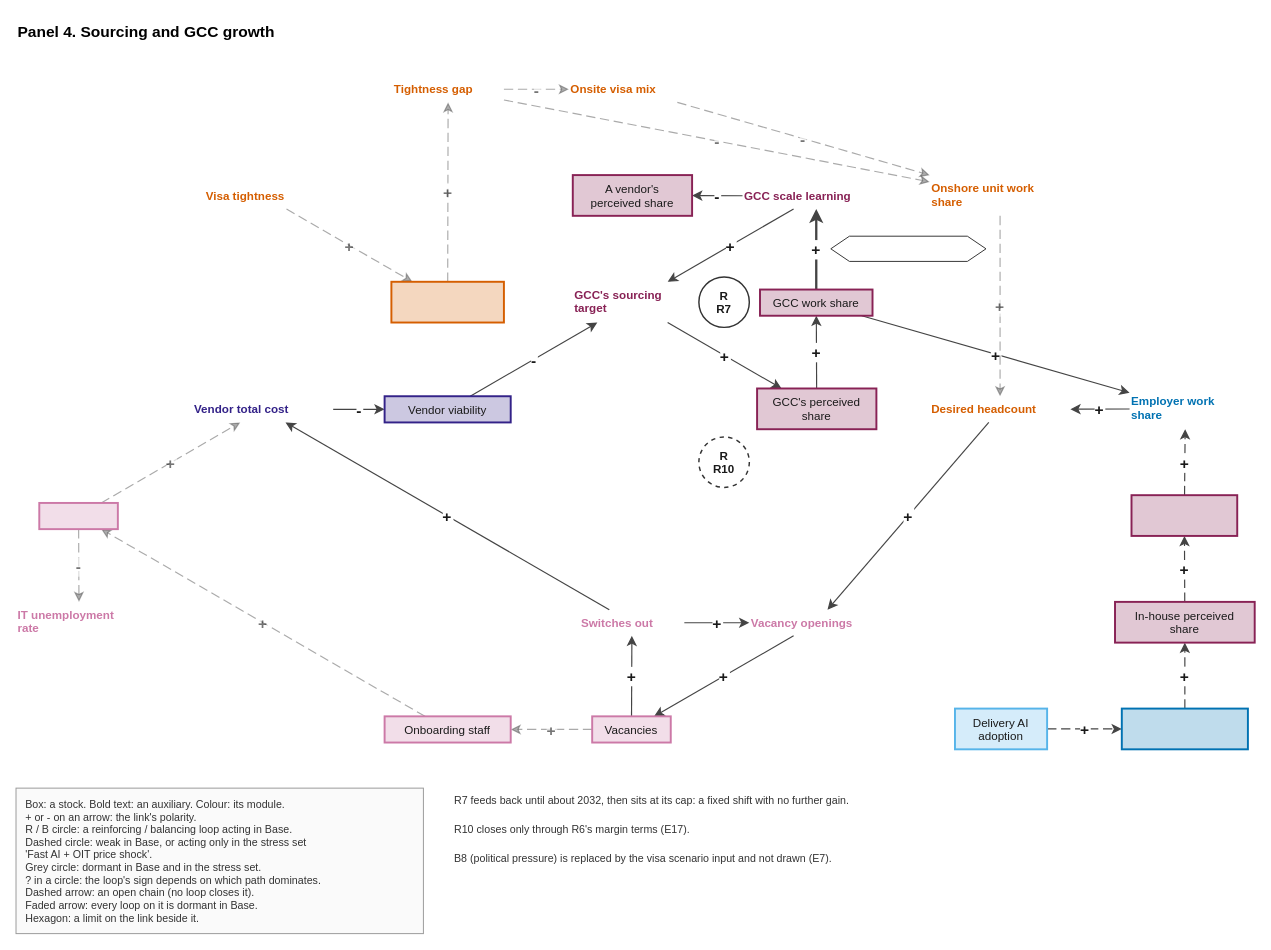
Image size: 1271x950. Some labels were removed from this diagram. The centre of each missing label's shape, as x and y in pixels:
"Client-perceived productivity" belongs at [1184,728].
"Headcount" belongs at [78,515].
"In-house work share" belongs at [1184,515].
"limit: cap (R7Lcap)" belongs at [908,248].
"Perceived visa tightness" belongs at [447,301].
